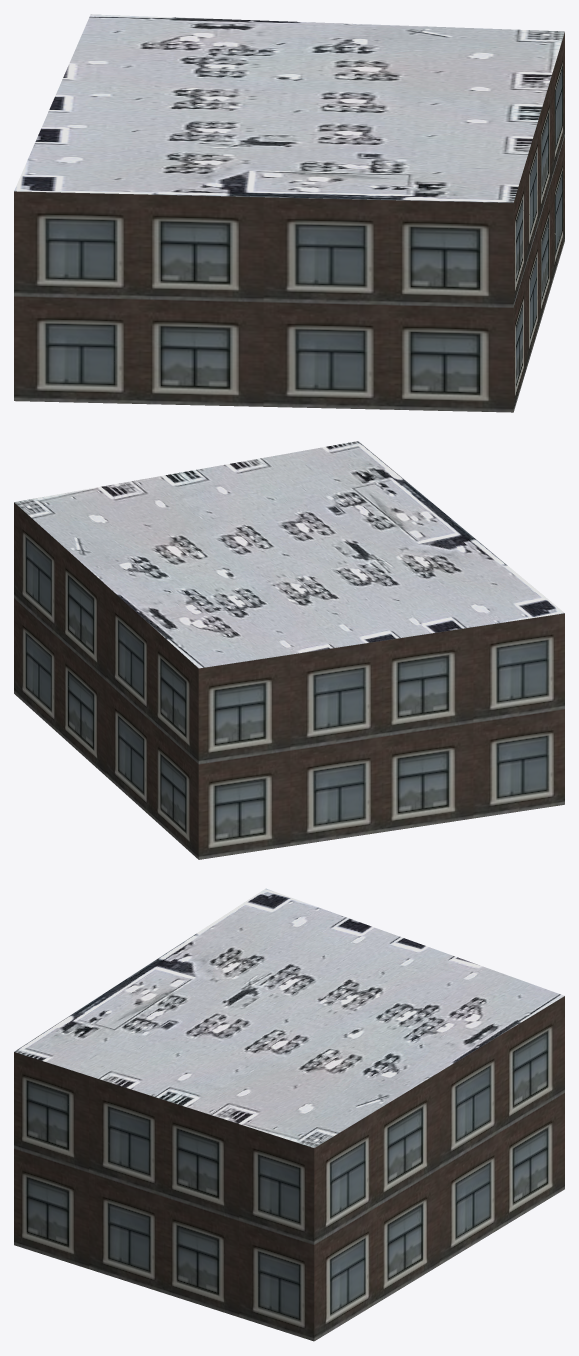
The model's file is ResTex__158.fbx.
3 views of the same model, one above another, from view 1: azimuth 30°, elevation 25°; view 2: azimuth 150°, elevation 25°; view 3: azimuth 270°, elevation 25° (orthographic). The views are drawn at different scales.
Visible parts, largest first — view 1: CityEngineMaterial_16_m, CityEngineMaterial_15_m; view 2: CityEngineMaterial_16_m, CityEngineMaterial_15_m; view 3: CityEngineMaterial_16_m, CityEngineMaterial_15_m.
Part boxes in pixels (x1,y1,x2,y2): CityEngineMaterial_16_m: (14,32,564,412); CityEngineMaterial_15_m: (14,14,564,202); CityEngineMaterial_16_m: (14,502,564,859); CityEngineMaterial_15_m: (14,441,564,668); CityEngineMaterial_16_m: (14,996,564,1341); CityEngineMaterial_15_m: (14,888,564,1147).
Size of the model in its own units: 17.28 by 6 by 15.5.
Materials: 2 (2 with a texture image).
